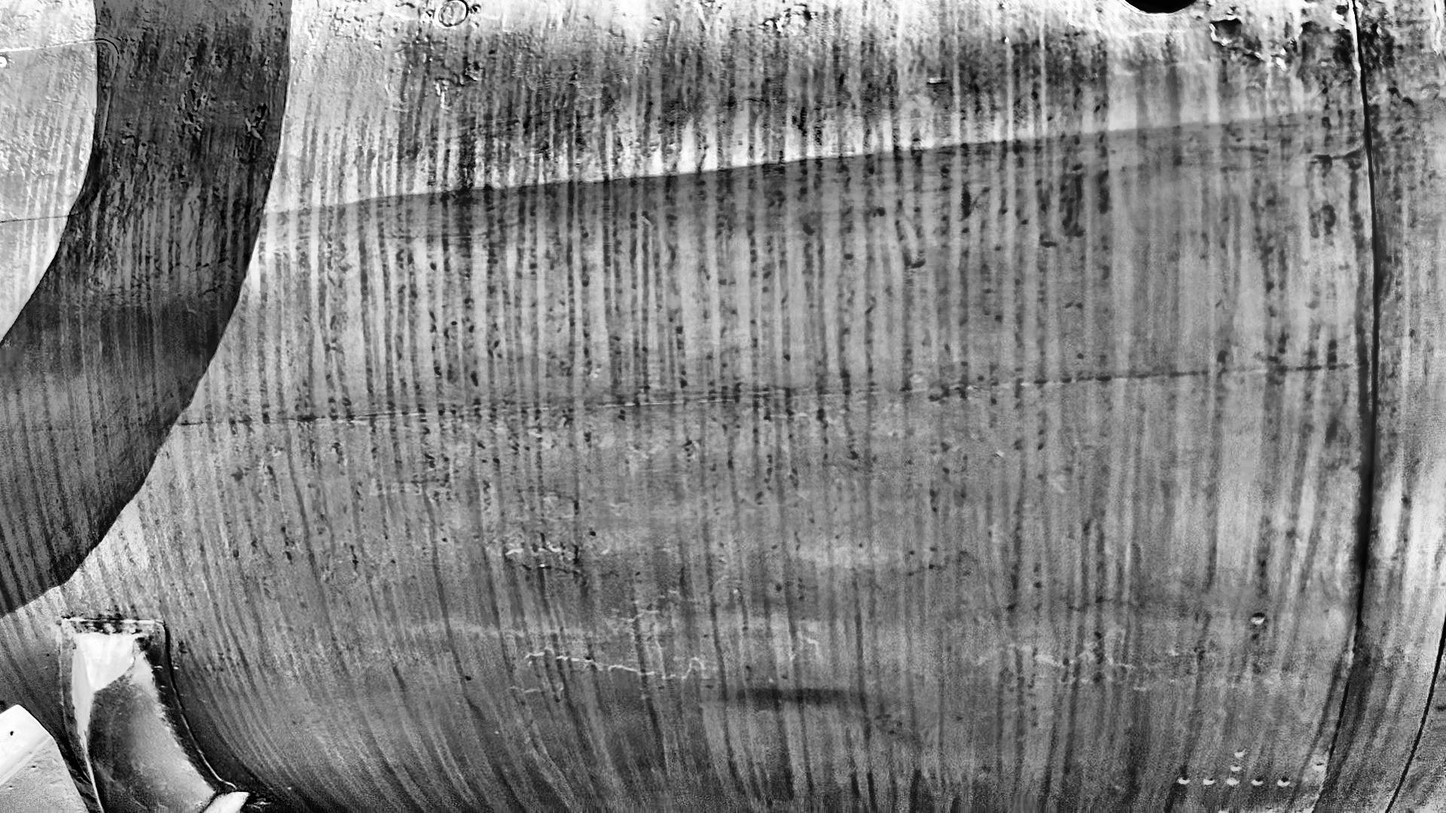missing-head: (1278, 777, 1290, 787), (1203, 775, 1215, 785), (1252, 777, 1264, 786), (1178, 775, 1190, 784), (1231, 762, 1242, 771), (1235, 748, 1245, 757)
paint-peel-off: (1213, 18, 1240, 44)
